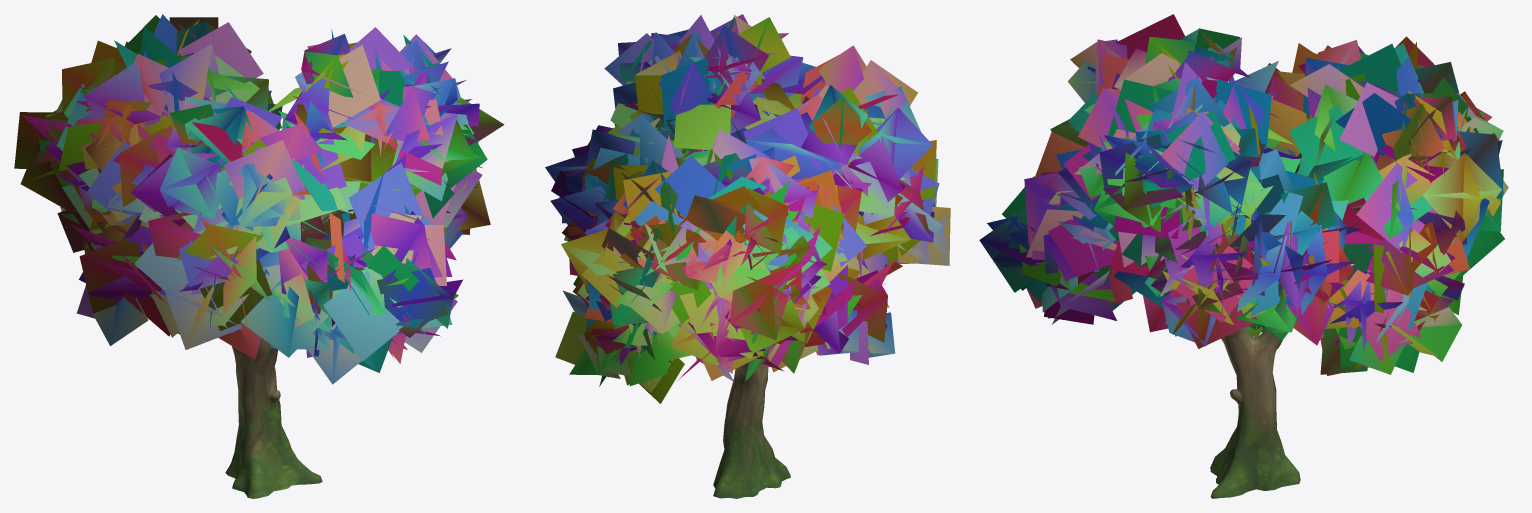
Rendered from Homeworld_Exterior_Common_Plant_Tree_02_Lod0.fbx.
3 views of the same model, side by side, from view 1: azimuth 30°, elevation 25°; view 2: azimuth 150°, elevation 25°; view 3: azimuth 270°, elevation 25° (orthographic). The views are drawn at different scales.
Parts seen in each view (by area): view 1: Stages_CyTree05_Leaf_Lod0, Stages_CyTree05_Bark_Lod0; view 2: Stages_CyTree05_Leaf_Lod0, Stages_CyTree05_Bark_Lod0; view 3: Stages_CyTree05_Leaf_Lod0, Stages_CyTree05_Bark_Lod0.
Boxes of the visible parts, left/top/right/bottom form: Stages_CyTree05_Leaf_Lod0: left=14, top=14, right=504, bottom=384; Stages_CyTree05_Bark_Lod0: left=104, top=148, right=353, bottom=498; Stages_CyTree05_Leaf_Lod0: left=545, top=14, right=950, bottom=403; Stages_CyTree05_Bark_Lod0: left=713, top=363, right=790, bottom=498; Stages_CyTree05_Leaf_Lod0: left=979, top=14, right=1508, bottom=375; Stages_CyTree05_Bark_Lod0: left=1210, top=151, right=1373, bottom=498.
Size of the model in its own units: 14.74 by 17.36 by 18.57.
